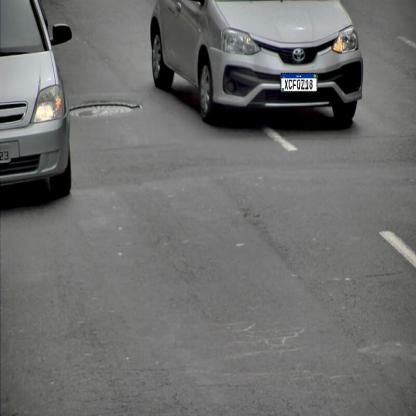PlacaM: (281, 73, 317, 92)
